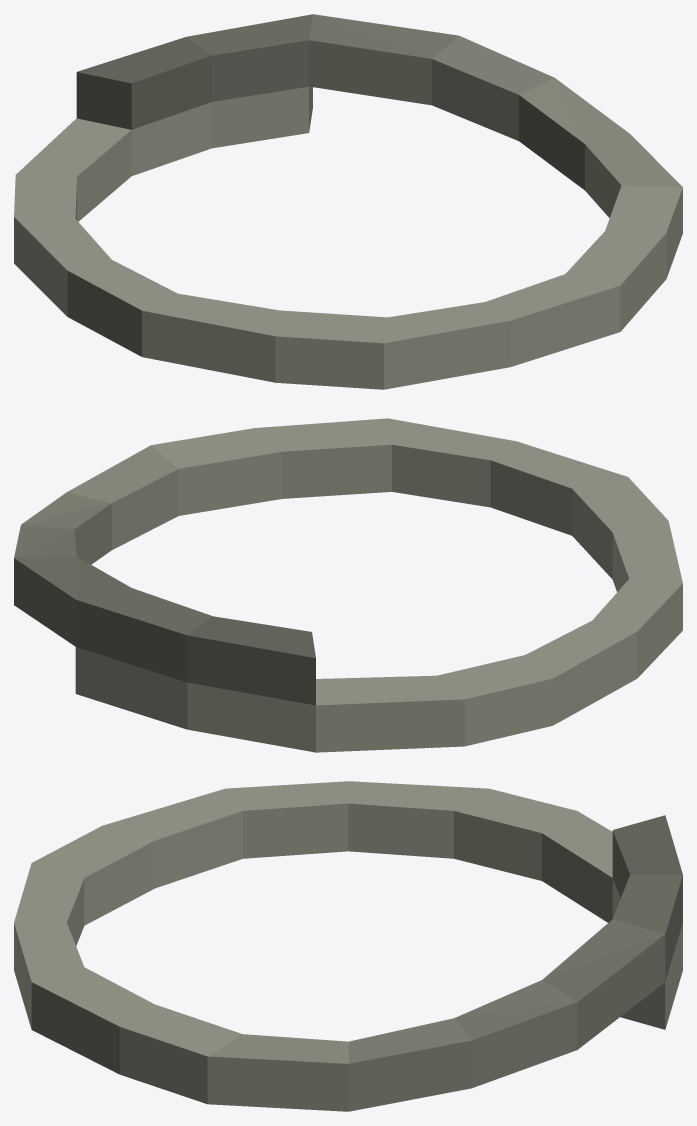
Rendered from steel-key-ring.gltf.
3 views of the same model, one above another, from view 1: azimuth 30°, elevation 25°; view 2: azimuth 150°, elevation 25°; view 3: azimuth 270°, elevation 25° (orthographic). The views are drawn at different scales.
Size of the model in its own units: 38 by 6 by 38.
Materials: 1 (1 with a texture image).
